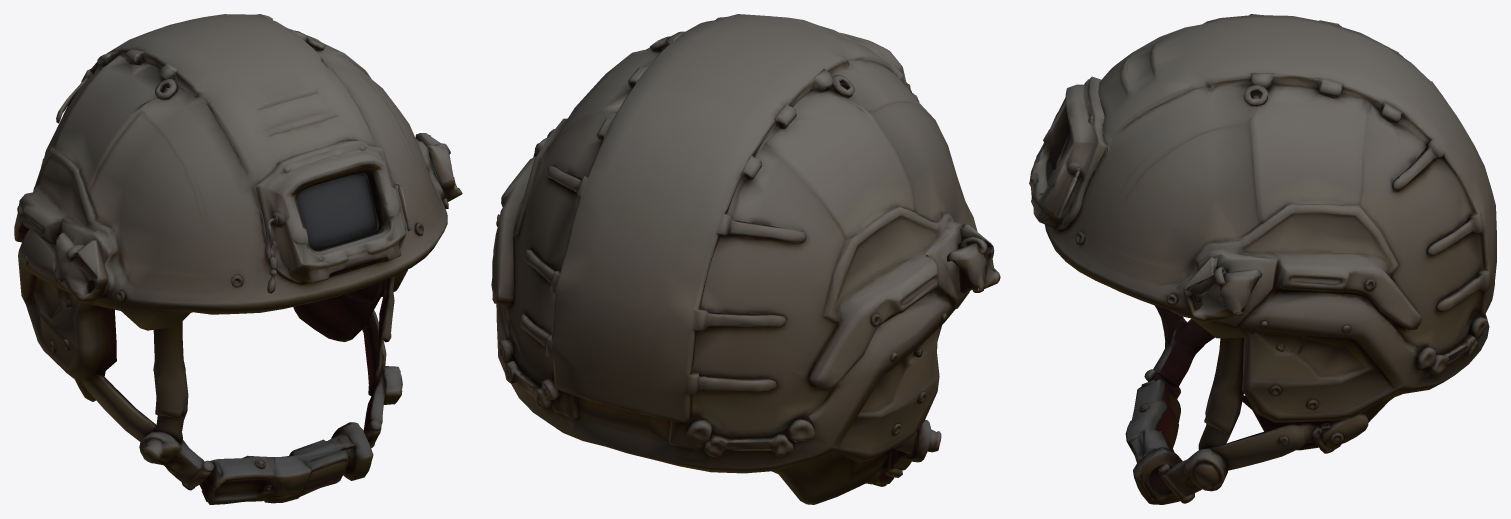
Rendered from mer_tactical_helmet_nvg.glb.
3 renders of one model, left to right at view 1: azimuth 30°, elevation 25°; view 2: azimuth 150°, elevation 25°; view 3: azimuth 270°, elevation 25°, orthographic. The views are drawn at different scales.
Visible parts, largest first — view 1: tripo_node_3221aee6-50b0-457b-a914-8cea8e218df3; view 2: tripo_node_3221aee6-50b0-457b-a914-8cea8e218df3; view 3: tripo_node_3221aee6-50b0-457b-a914-8cea8e218df3.
Boxes of the visible parts, <box> form: tripo_node_3221aee6-50b0-457b-a914-8cea8e218df3: <box>14,14,462,504</box>; tripo_node_3221aee6-50b0-457b-a914-8cea8e218df3: <box>491,14,1000,504</box>; tripo_node_3221aee6-50b0-457b-a914-8cea8e218df3: <box>1029,14,1496,504</box>.
Size of the model in its own units: 0.9824 by 0.998 by 0.9746.
1 material, 1 textured.
